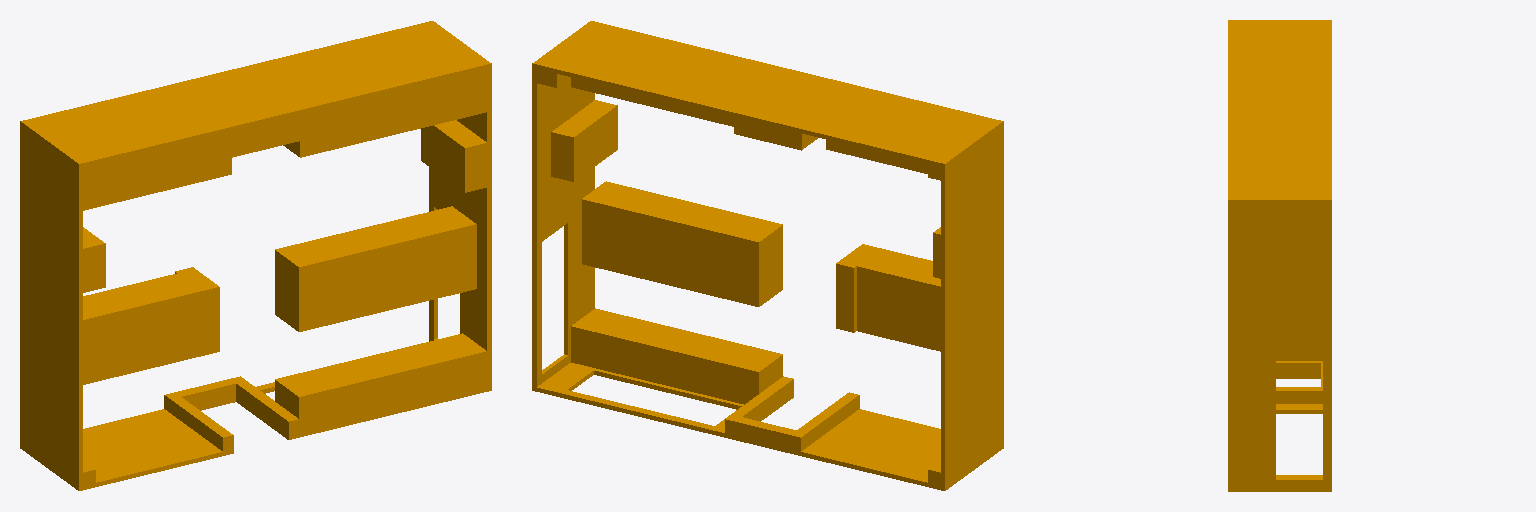
URDF robot description (lab):
<?xml version="1.0" encoding="UTF-8"?>
<robot name="lab" xmlns:xacro="http://www.ros.org/wiki/xacro">
  <link name="base_link">
    <visual>
      <geometry>
        <mesh filename="resources/meshes/lab_floor_plan.stl"/>
      </geometry>
    </visual>
  </link>
</robot>

--- Facts derived from the render (not from the file) ---
3 views of the same robot in one strip: view 1: azimuth 30°, elevation 25°; view 2: azimuth 150°, elevation 25°; view 3: azimuth 270°, elevation 25° (orthographic).
Robot: lab — 1 links, 0 joints (none); root link base_link; default pose: every joint at zero.
Links seen in each view (by area): view 1: base_link; view 2: base_link; view 3: base_link.
Link boxes in pixels (left/top/right/bottom): base_link: left=20, top=21, right=491, bottom=490; base_link: left=532, top=21, right=1003, bottom=490; base_link: left=1228, top=20, right=1331, bottom=491.
Size in the robot's own frame: 9759 by 2400 by 7400 metres.
1 mesh visuals loaded from 1 distinct referenced files (1 binary STL).